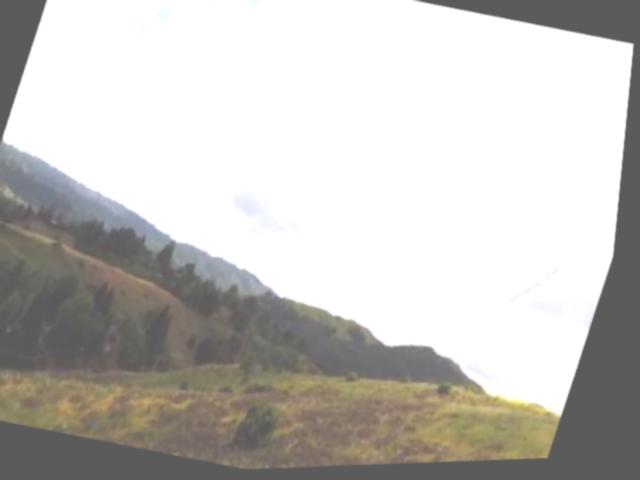iha: (521, 246, 582, 311)
